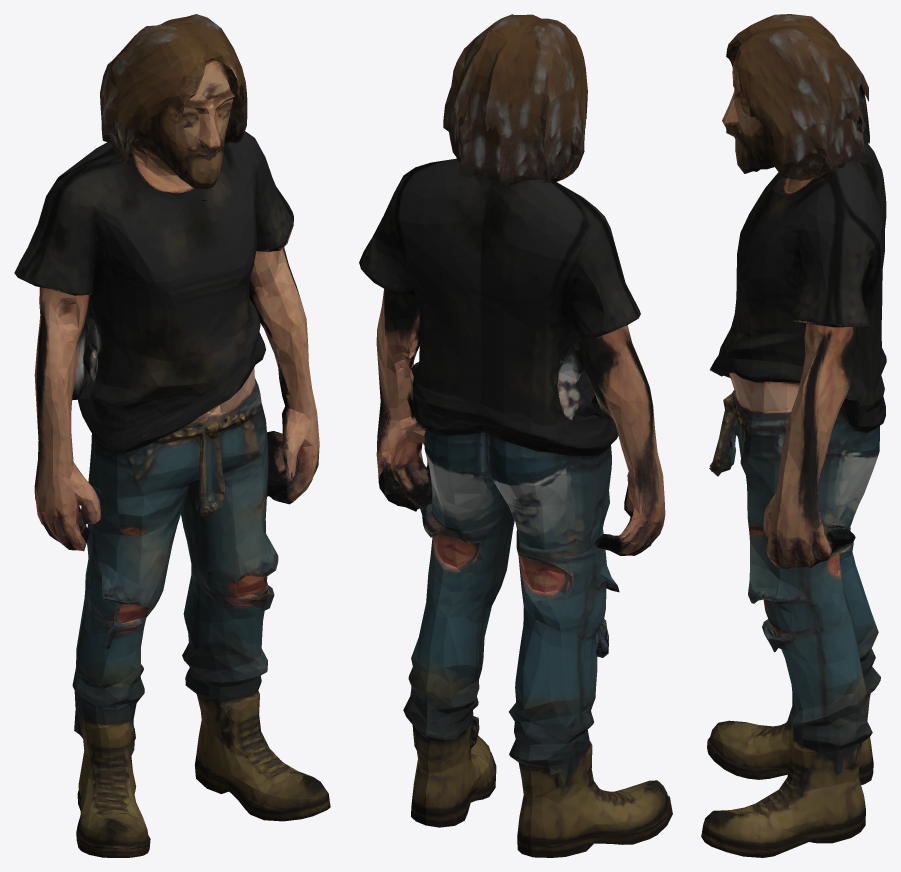
File: hobo.glb
3 renders of one model, left to right at view 1: azimuth 30°, elevation 25°; view 2: azimuth 150°, elevation 25°; view 3: azimuth 270°, elevation 25°, orthographic.
Parts seen in each view (by area): view 1: world; view 2: world; view 3: world.
Boxes of the visible parts, left/top/right/bottom form: world: left=14, top=14, right=330, bottom=857; world: left=359, top=14, right=672, bottom=857; world: left=701, top=14, right=886, bottom=857.
Bounding box in the file's own units: 0.3632 × 0.9962 × 0.2141.
1 material, 1 textured.
